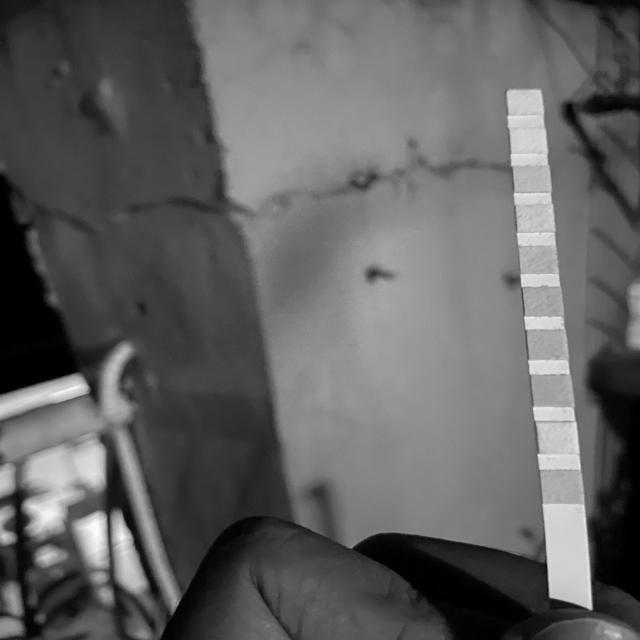Bilirubin: (540, 422, 576, 452)
Blood: (526, 288, 561, 316)
Glucose: (543, 470, 581, 502)
Ketone: (534, 375, 570, 406)
Leukocytes: (510, 90, 542, 114)
Nitrite: (513, 129, 545, 152)
Protein: (520, 205, 552, 232)
SpGravity: (529, 330, 567, 359)
Urobilinogen: (516, 167, 548, 192)
background: (0, 0, 640, 640)
pH: (522, 247, 556, 273)
strip: (505, 89, 593, 607)
